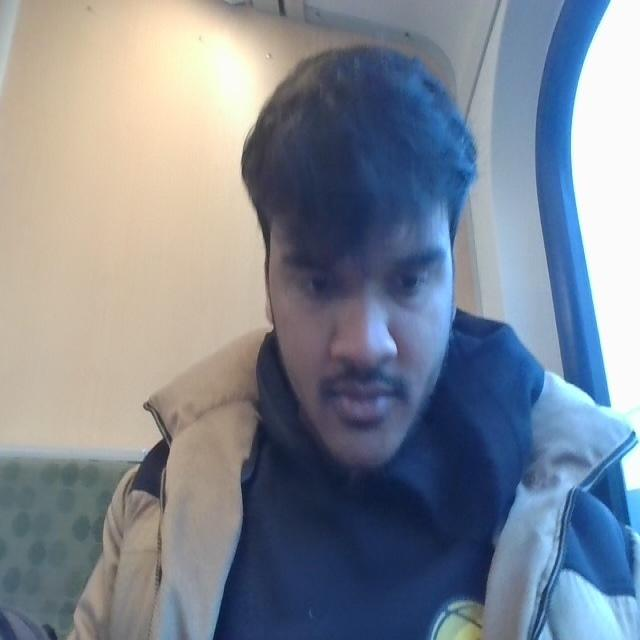no hat: (225, 26, 478, 198)
